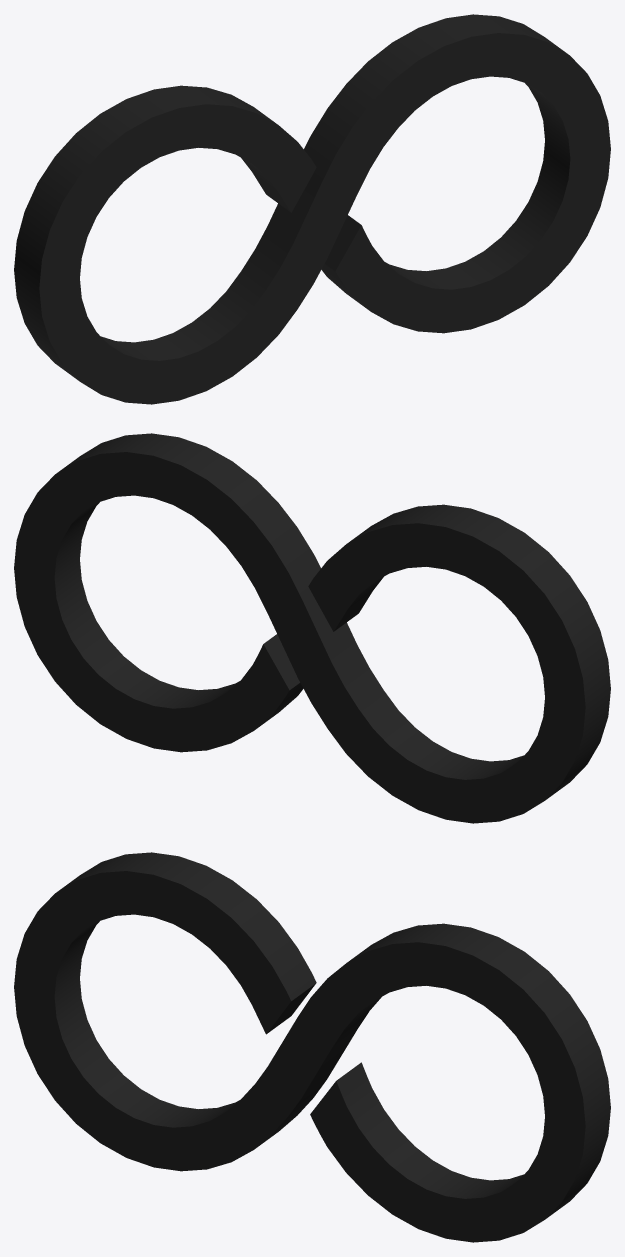
Rendered from infinity.glb.
3 renders of one model, top to bottom at view 1: azimuth 30°, elevation 25°; view 2: azimuth 150°, elevation 25°; view 3: azimuth 330°, elevation 25°, orthographic.
Parts seen in each view (by area): view 1: Cube.6443; view 2: Cube.6443; view 3: Cube.6443.
Part boxes in pixels (x1,y1,x2,y2): Cube.6443: (14,14,610,404); Cube.6443: (14,433,610,823); Cube.6443: (14,852,610,1242).
Size of the model in its own units: 2.32 by 1.13 by 0.1778.
Materials: 1 (1 with a texture image).
